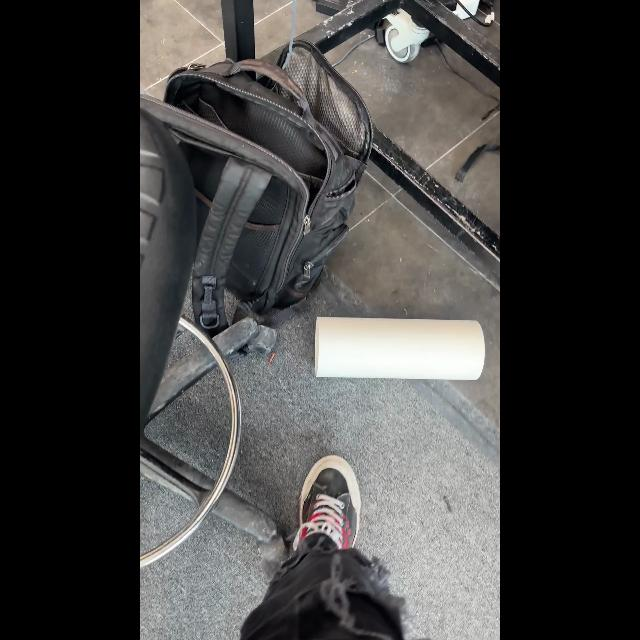CORAL: (313, 316, 485, 380)
